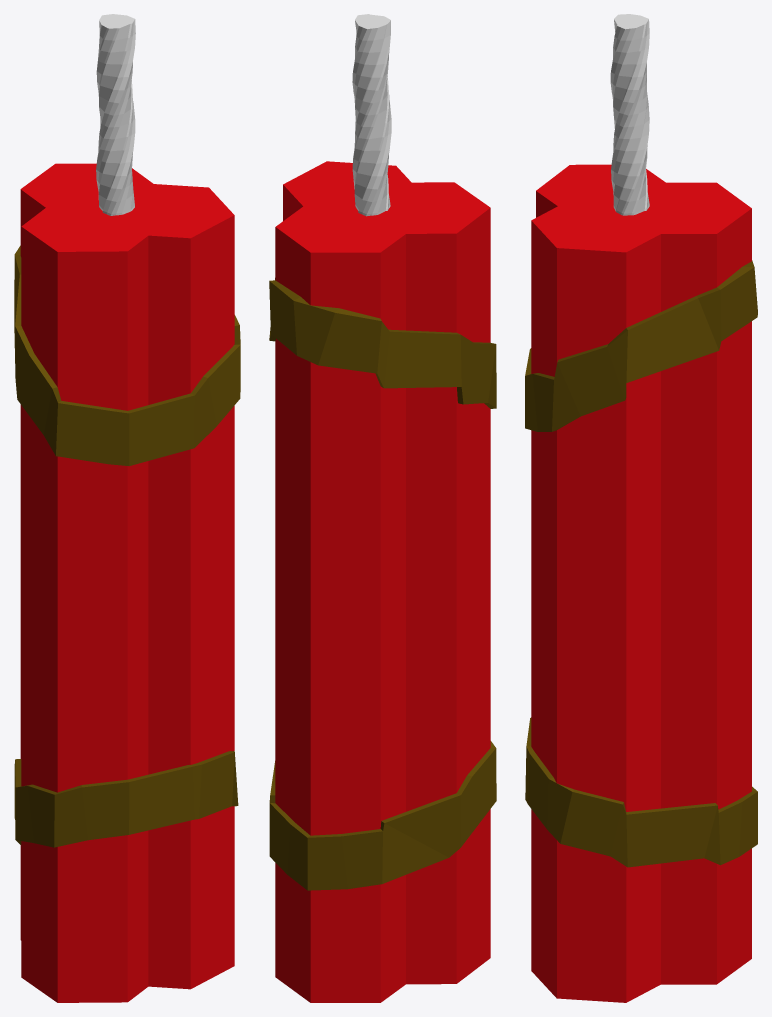
Rendered from TnT.fbx.
The picture shows the model from 3 angles, left to right: view 1: azimuth 30°, elevation 25°; view 2: azimuth 150°, elevation 25°; view 3: azimuth 270°, elevation 25°; orthographic projection.
Visible parts, largest first — view 1: TnT; view 2: TnT; view 3: TnT.
Part boxes in pixels (<box>): TnT: <box>14,14,240,1002</box>; TnT: <box>269,14,496,1002</box>; TnT: <box>525,14,757,1002</box>.
Bounding box in the file's own units: 7.82 × 34.72 × 7.42.
